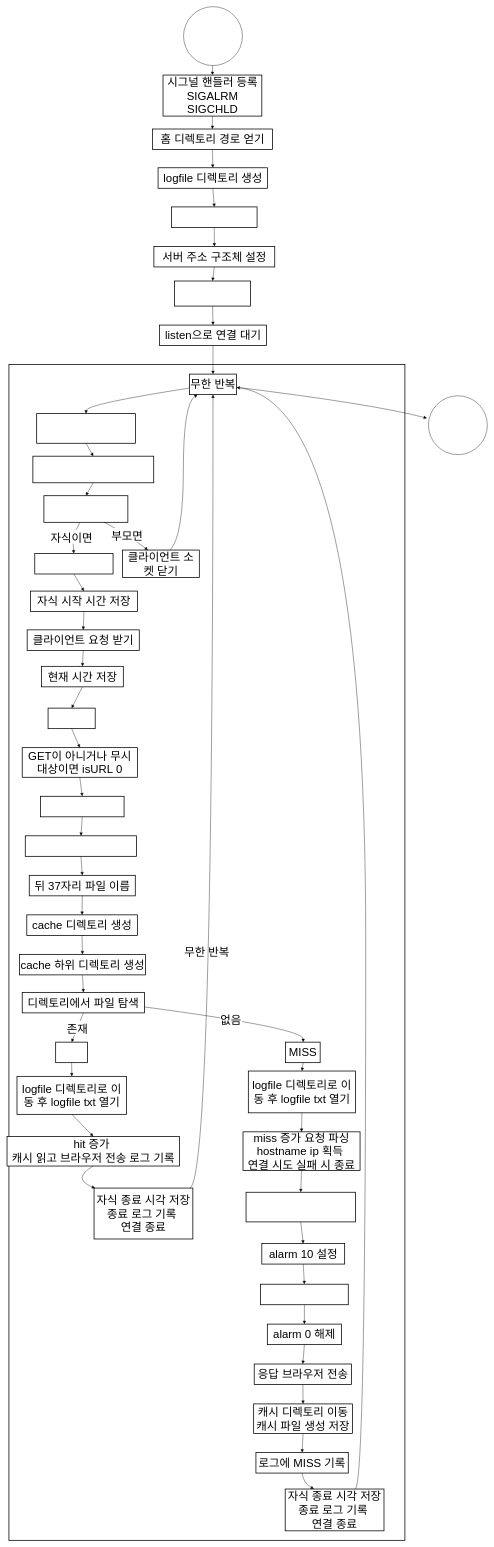
Image size: 494x1547. Some labels were removed from this diagram. Here are the shapes that lost their labels. From the top down, the centre of each, then its label:
the point at 212,36: 프로그램 시작
the point at 214,217: 서버 소켓 생성
the point at 212,293: bind로 IP PORT 할당
the point at 86,428: accept로 클라이언트 연결 수락
the point at 457,425: 서버 소켓 닫고 프로그램 종료
the point at 93,469: 연결 성공 메시지 출력
the point at 85,508: 자식 프로세스 fork 생성
the point at 73,563: 서버 소켓 닫기
the point at 71,718: 요청 출력
the point at 82,806: SHA1 해시 수행
the point at 81,846: 앞 3자리 디렉토리 이름
the point at 71,1052: HIT
the point at 300,1207: 요청 라인 생성 및 헤더 정리 후 웹 서버에 전송
the point at 304,1294: 웹서버 응답 수신
